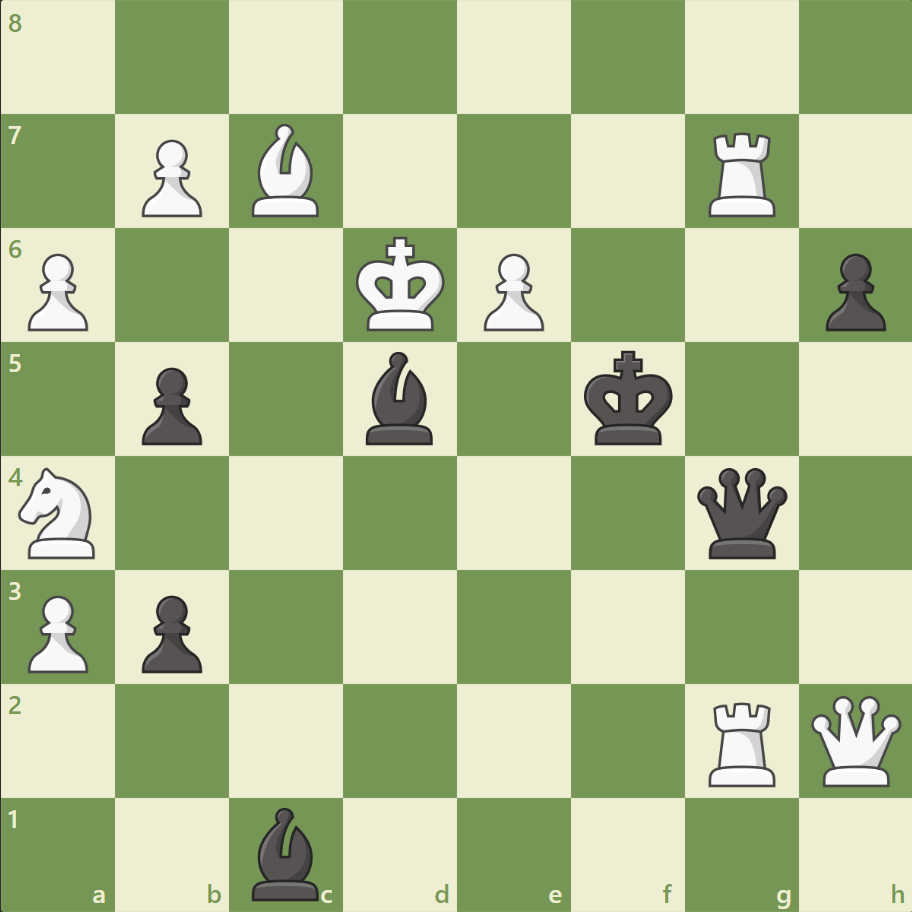B: (244, 120, 328, 222)
K: (351, 231, 451, 339)
N: (11, 461, 108, 564)
P: (133, 132, 208, 223), (20, 246, 95, 337), (474, 246, 549, 337), (20, 586, 95, 677)
Q: (805, 690, 904, 789)
R: (700, 125, 783, 222), (700, 693, 783, 790)
b: (244, 801, 328, 904), (358, 347, 442, 449)
k: (579, 344, 679, 452)
p: (133, 359, 208, 450), (133, 586, 208, 677), (815, 246, 889, 337)
q: (691, 463, 790, 562)
